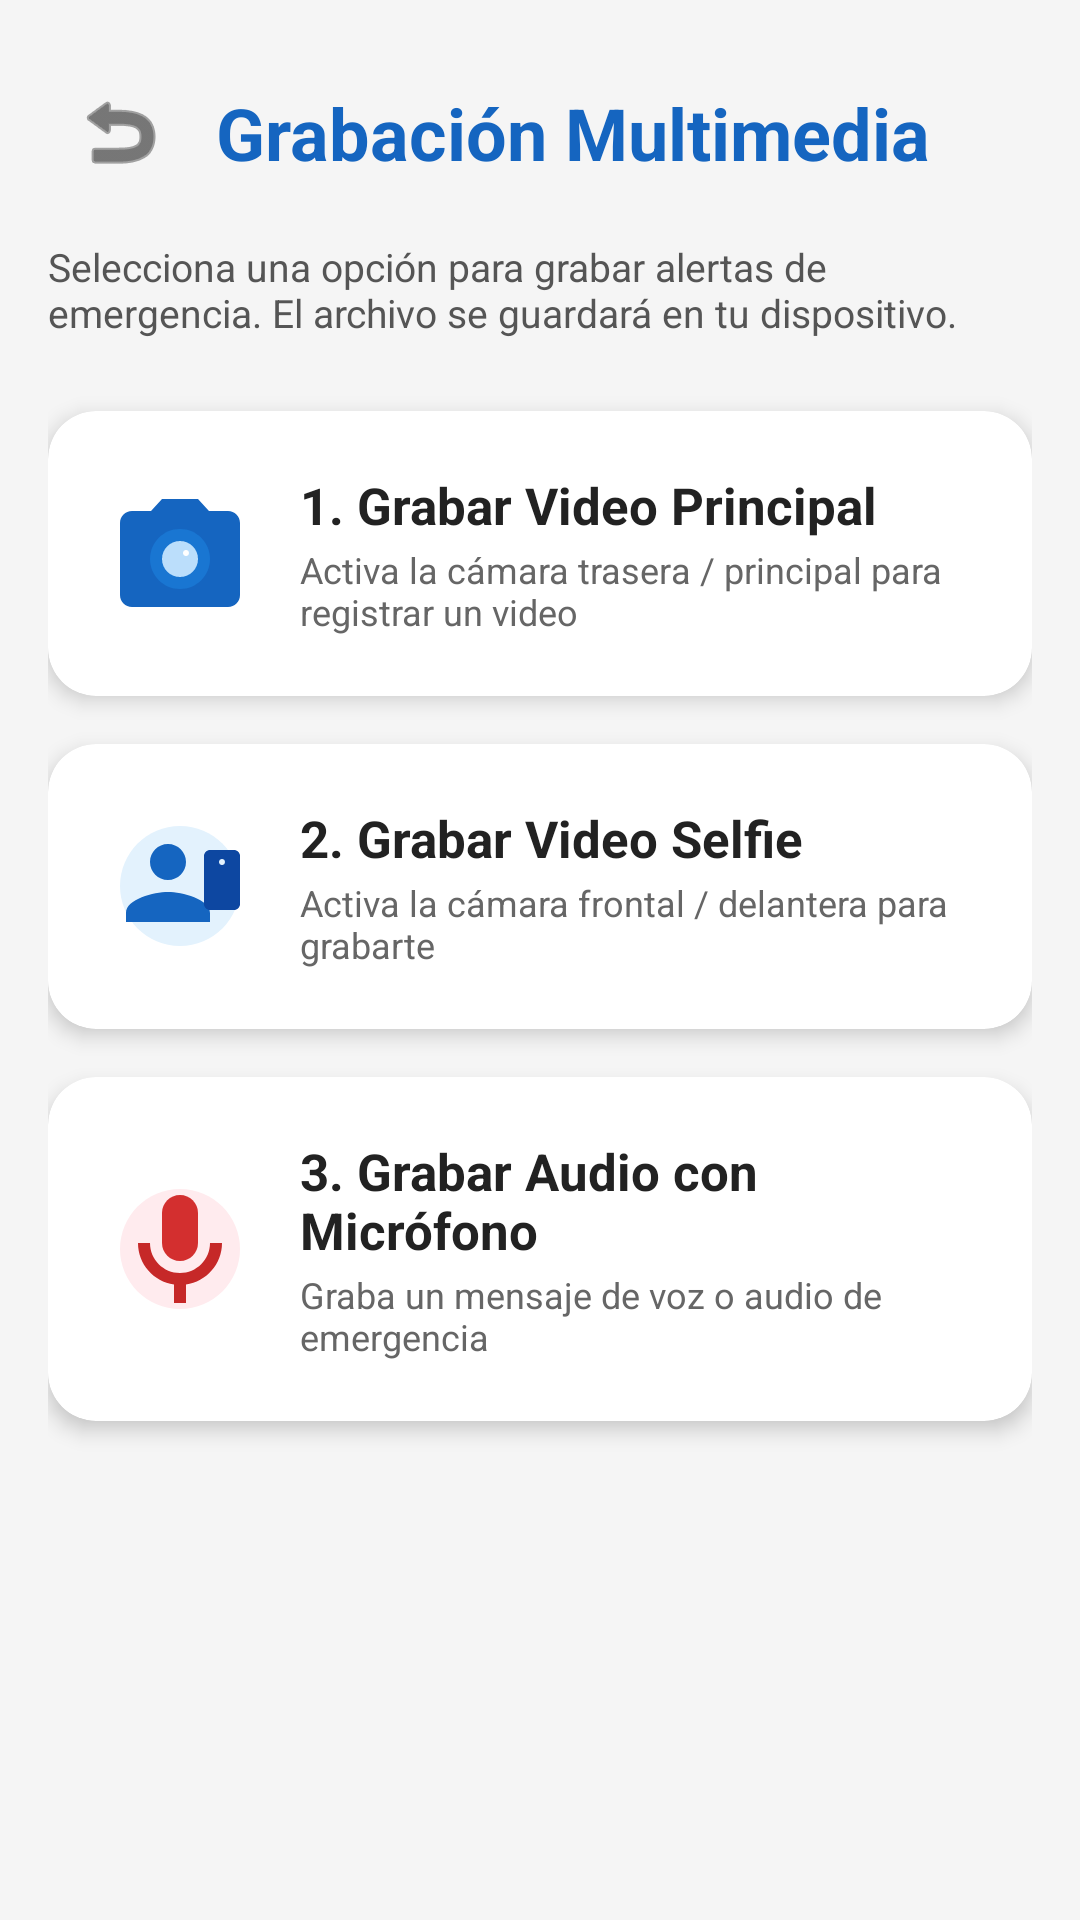

Point at icon controls on the screen. Image size 1080w x 1920h, points as [x,y].
Atrás: [121,132]
